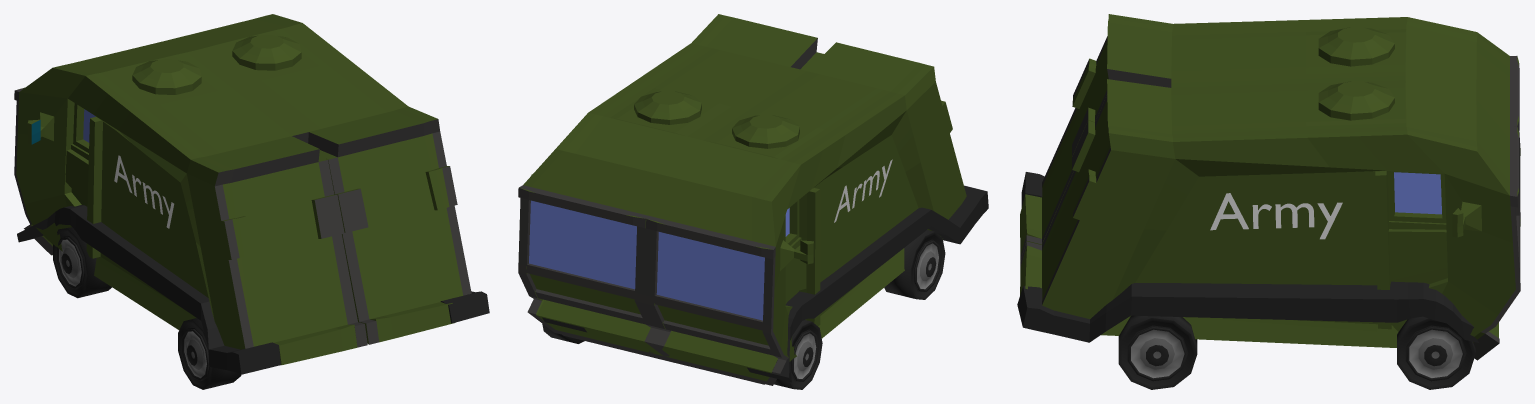
The model's file is Woz armii 1.fbx.
3 views of the same model, side by side, from view 1: azimuth 30°, elevation 25°; view 2: azimuth 150°, elevation 25°; view 3: azimuth 270°, elevation 25° (orthographic). The views are drawn at different scales.
Visible parts, largest first — view 1: Cube, Cylinder.002, Cylinder.001, Cylinder, Cylinder.003, Army .001; view 2: Cube, Cylinder.002, Cylinder, Cylinder.001, Army .001; view 3: Cube, Cylinder.003, Cylinder.004, Cylinder.005, Army, Cylinder.002.
Part boxes in pixels (left/top/right/bottom): Cube: left=14, top=14, right=471, bottom=365; Cylinder.002: left=17, top=205, right=280, bottom=374; Cylinder.001: left=53, top=227, right=111, bottom=298; Cylinder: left=178, top=318, right=241, bottom=389; Cylinder.003: left=440, top=291, right=489, bottom=323; Army .001: left=114, top=155, right=174, bottom=228; Cube: left=518, top=14, right=966, bottom=385; Cylinder.002: left=747, top=185, right=988, bottom=382; Cylinder: left=884, top=230, right=945, bottom=299; Cylinder.001: left=774, top=320, right=822, bottom=389; Army .001: left=834, top=159, right=892, bottom=222; Cube: left=1020, top=14, right=1520, bottom=360; Cylinder.003: left=1017, top=281, right=1478, bottom=342; Cylinder.004: left=1118, top=315, right=1197, bottom=389; Cylinder.005: left=1397, top=316, right=1475, bottom=389; Army: left=1210, top=193, right=1342, bottom=239; Cylinder.002: left=1021, top=172, right=1044, bottom=207.
Size of the model in its own units: 277 by 215 by 378.
